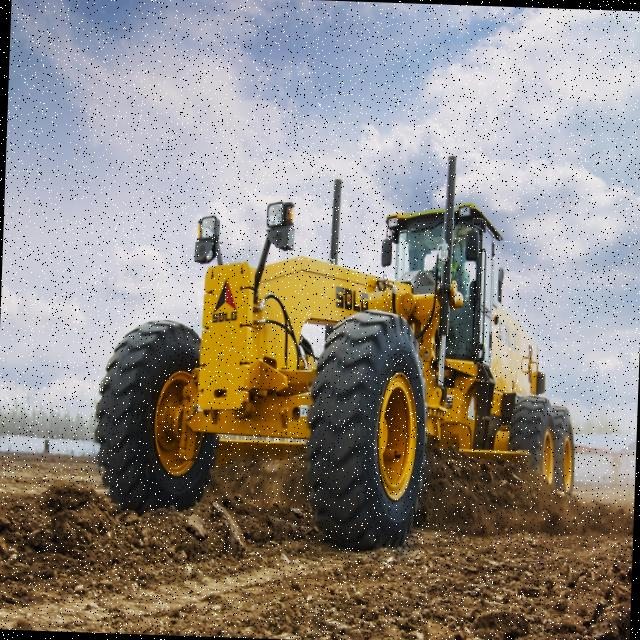Grader: (73, 139, 608, 563)
